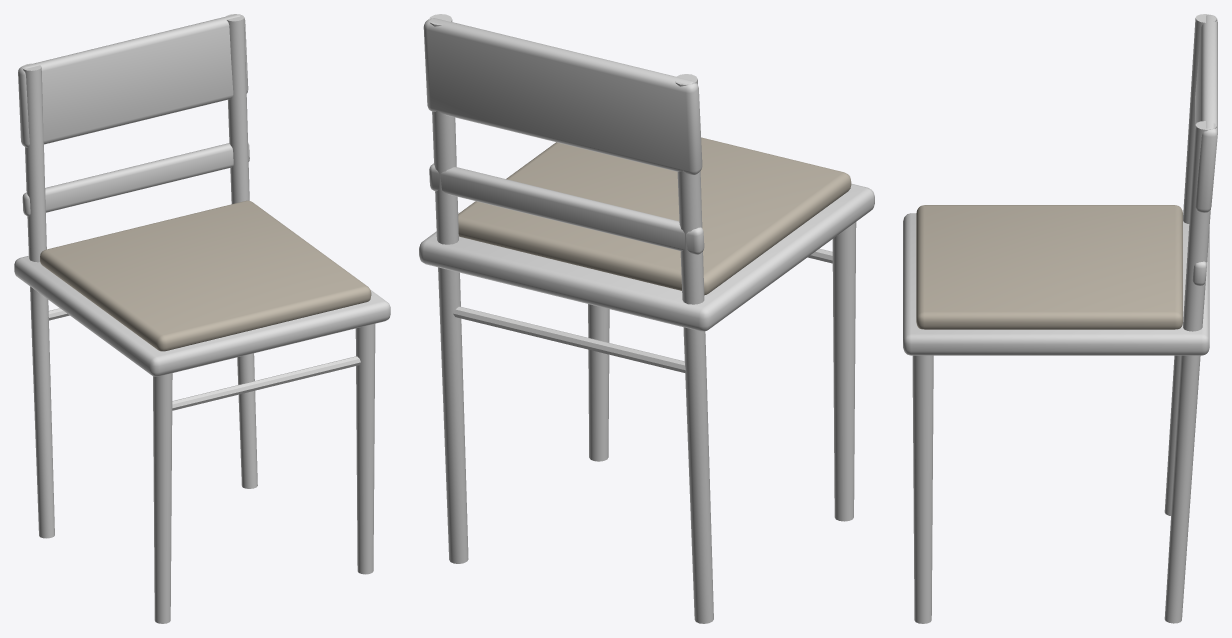
File: cadeira.glb
3 renders of one model, left to right at view 1: azimuth 30°, elevation 25°; view 2: azimuth 150°, elevation 25°; view 3: azimuth 270°, elevation 25°, orthographic. The views are drawn at different scales.
Parts seen in each view (by area): view 1: p; view 2: p; view 3: p.
Part boxes in pixels (x1,y1,x2,y2): p: (14, 14, 390, 623); p: (419, 14, 874, 623); p: (903, 14, 1217, 623).
Bounding box in the file's own units: 0.45 × 0.8203 × 0.4723.
